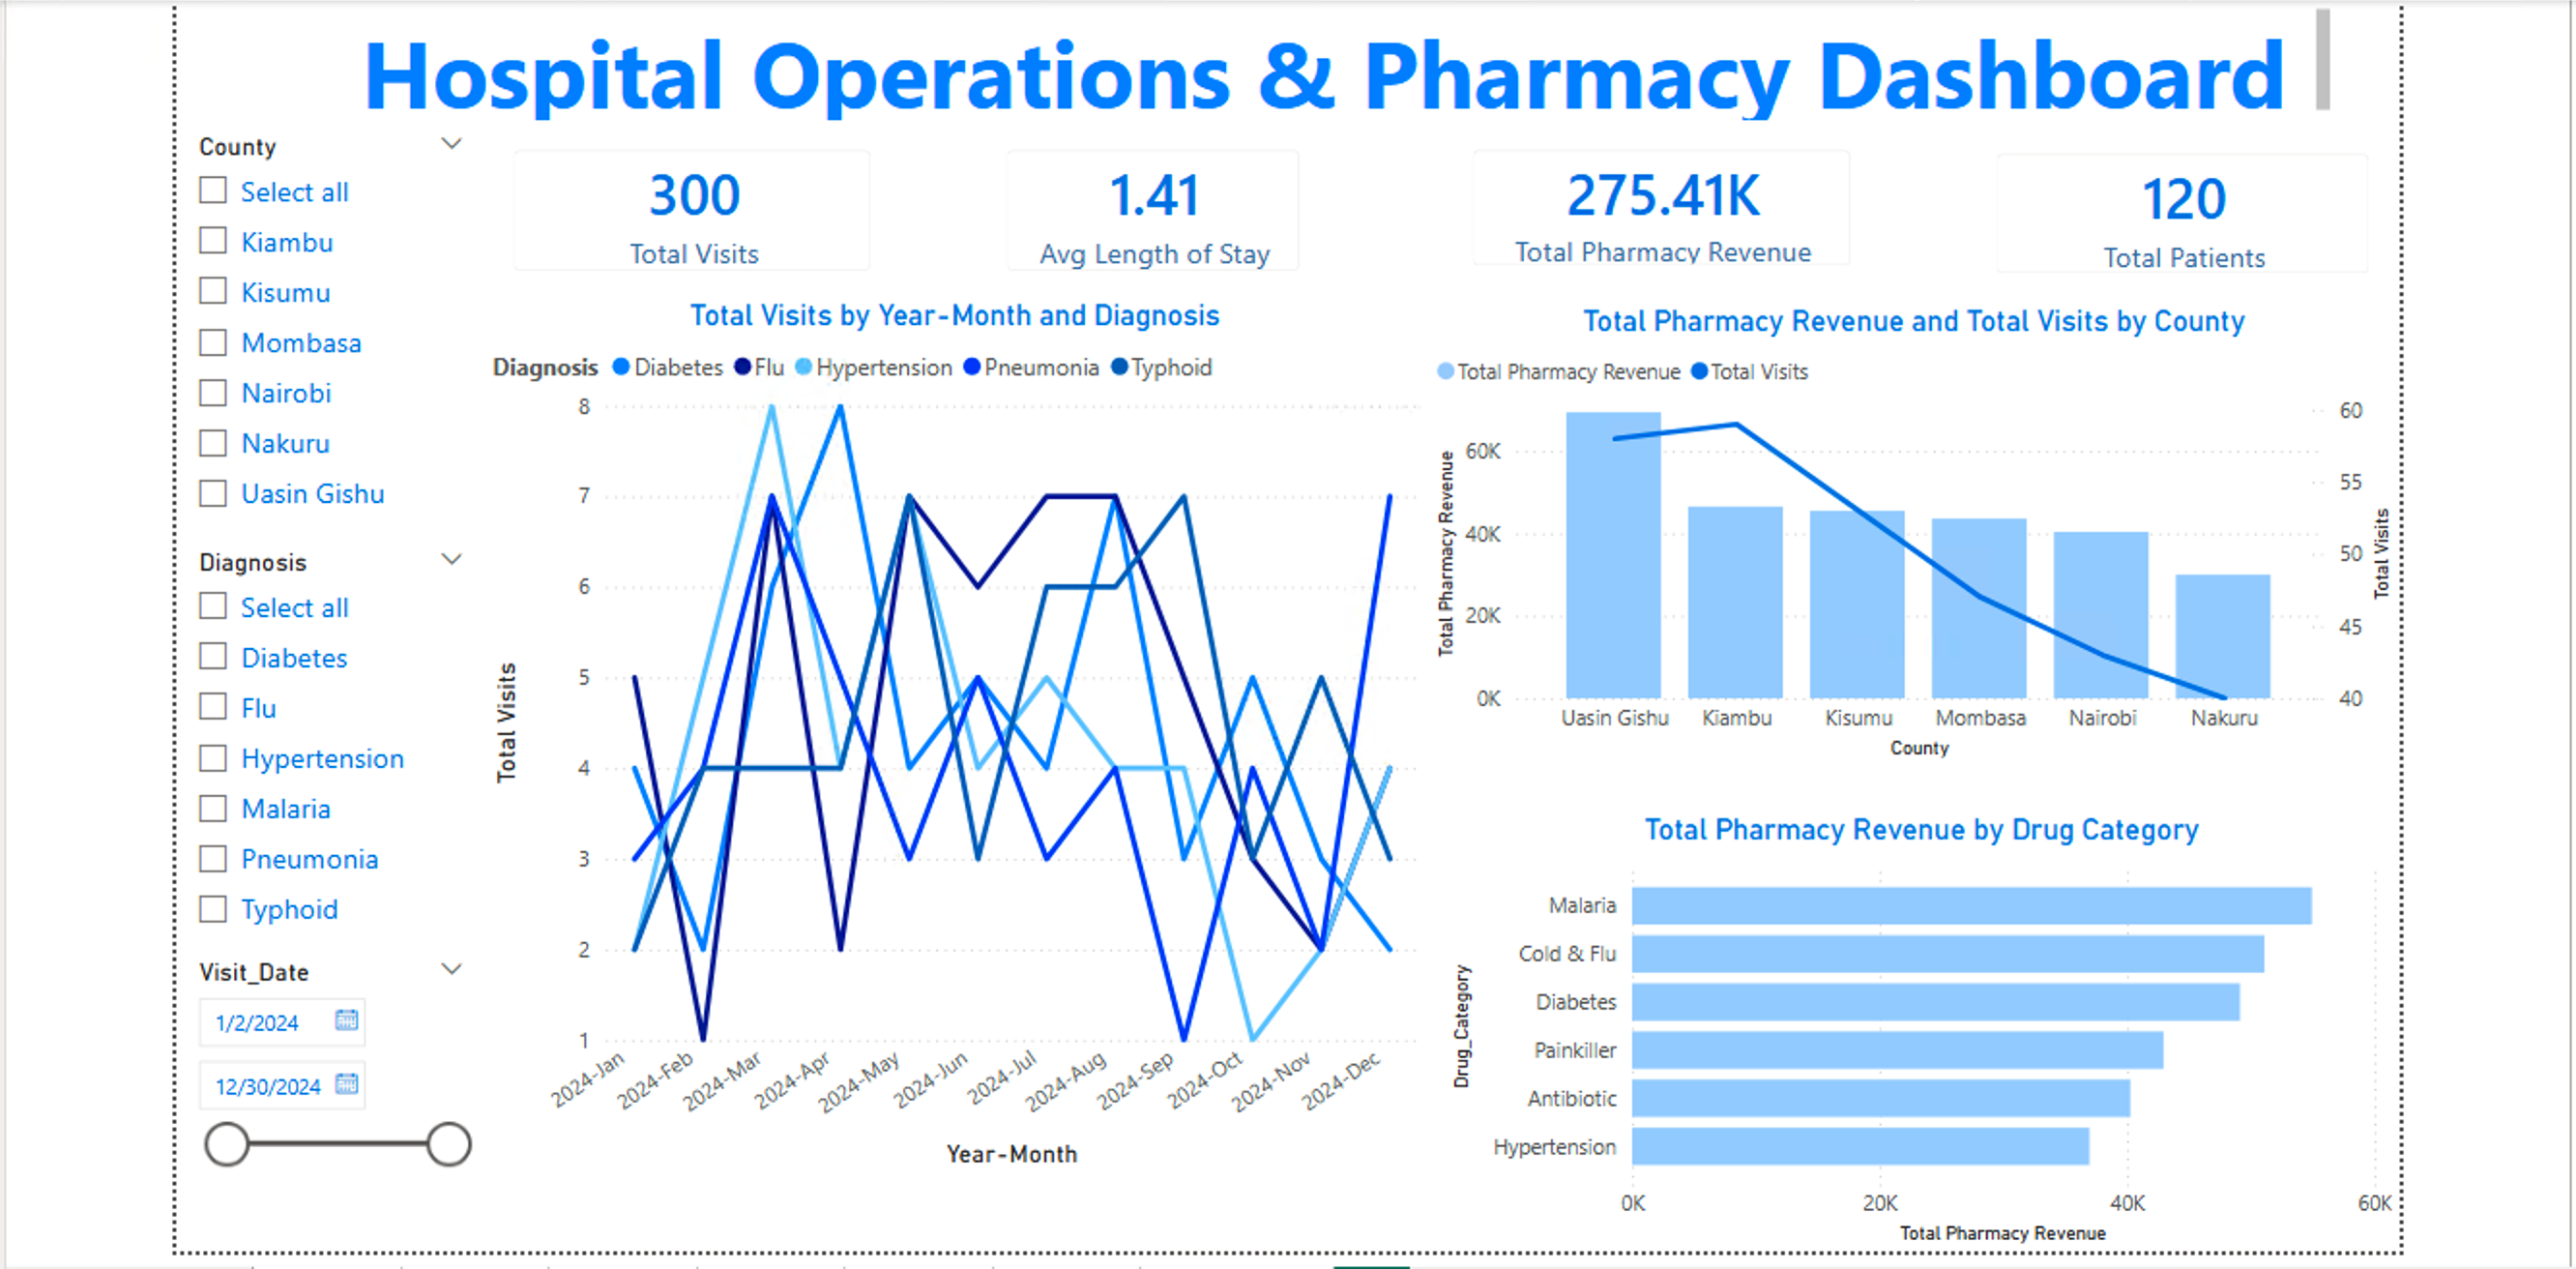

Layout of this report page (visuals, bound fields, positions):
{"tool":"powerbi","page":{"name":"Dashboard","canvas":[1280,720],"ordinal":6},"visuals":[{"type":"textbox","box":[85.7,0,1158.8,73.9],"z":0},{"type":"slicer","fields":{"Values":["Patients.County"]},"box":[0,70.9,177.4,239.4],"z":1000},{"type":"slicer","fields":{"Values":["Visits.Diagnosis"]},"box":[0,310.4,177.4,236.5],"z":2000},{"type":"slicer","fields":{"Values":["Visits.Visit_Date"]},"box":[0,546.9,177.4,153.7],"z":3000},{"type":"cardVisual","fields":{"Data":["Patients.TotalVisits"]},"box":[177.4,69.5,240.9,104.9],"z":4000},{"type":"cardVisual","fields":{"Data":["Visits.Avg Length of Stay"]},"box":[461.2,69.5,204,104.9],"z":5000},{"type":"cardVisual","fields":{"Data":["Patients.TotalPharmacyCost"]},"box":[728.7,69.5,252.7,102],"z":6000},{"type":"cardVisual","fields":{"Data":["Patients.TotalPatients"]},"box":[1030.2,70.9,249.8,103.5],"z":7000},{"type":"barChart","title":"Total Pharmacy Revenue by Drug Category","fields":{"Category":["Pharmacy_Transactions.Drug_Category"],"Y":["Patients.Total Pharmacy Revenue"]},"box":[728.7,467.1,551.3,252.7],"z":8000},{"type":"lineStackedColumnComboChart","fields":{"Category":["Patients.County"],"Y":["Patients.Total Pharmacy Revenue"],"Y2":["Patients.Total Visits"]},"box":[719.8,174.4,560.2,266.1],"z":9000},{"type":"lineChart","fields":{"Y":["Patients.Total Visits"],"Category":["DateDem.Year-Month"],"Series":["Visits.Diagnosis"]},"box":[177.4,171.5,542.4,505.5],"z":10000}]}

Visuals, with their boxes on the page's 1280x720 design canvas (x1, y1, x2, y2). These are canvas units, not pixel positions in the 2576x1269 screenshot, which may show the page scaled, cropped or inside an application window:
textbox: 86/0/1244/74
slicer - Patients.County: 0/71/177/310
slicer - Visits.Diagnosis: 0/310/177/547
slicer - Visits.Visit_Date: 0/547/177/701
cardVisual - Patients.TotalVisits: 177/70/418/174
cardVisual - Visits.Avg Length of Stay: 461/70/665/174
cardVisual - Patients.TotalPharmacyCost: 729/70/981/172
cardVisual - Patients.TotalPatients: 1030/71/1280/174
"Total Pharmacy Revenue by Drug Category" barChart: 729/467/1280/720
lineStackedColumnComboChart - Patients.County x Patients.Total Pharmacy Revenue: 720/174/1280/440
lineChart - Patients.Total Visits x DateDem.Year-Month: 177/172/720/677
